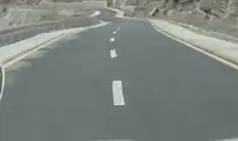left: (75, 34, 162, 117)
